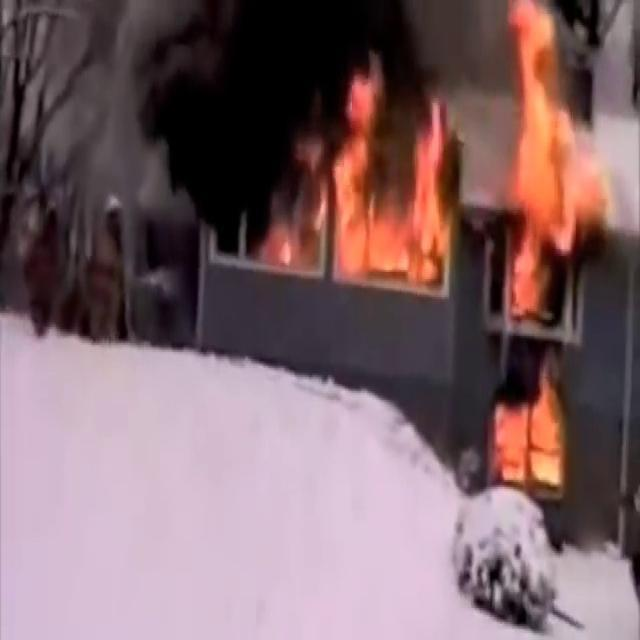Fire: (264, 63, 456, 294), (498, 2, 616, 316), (488, 346, 572, 492)
Smoke: (79, 0, 485, 176)
